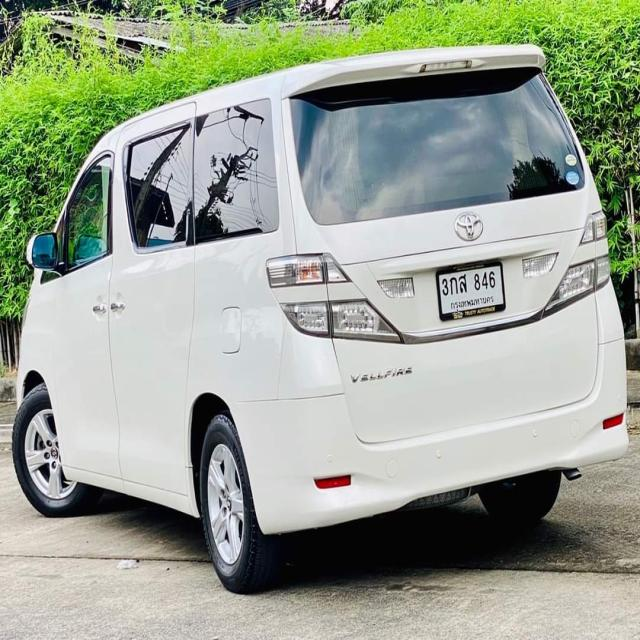license_plate: (434, 256, 507, 322)
